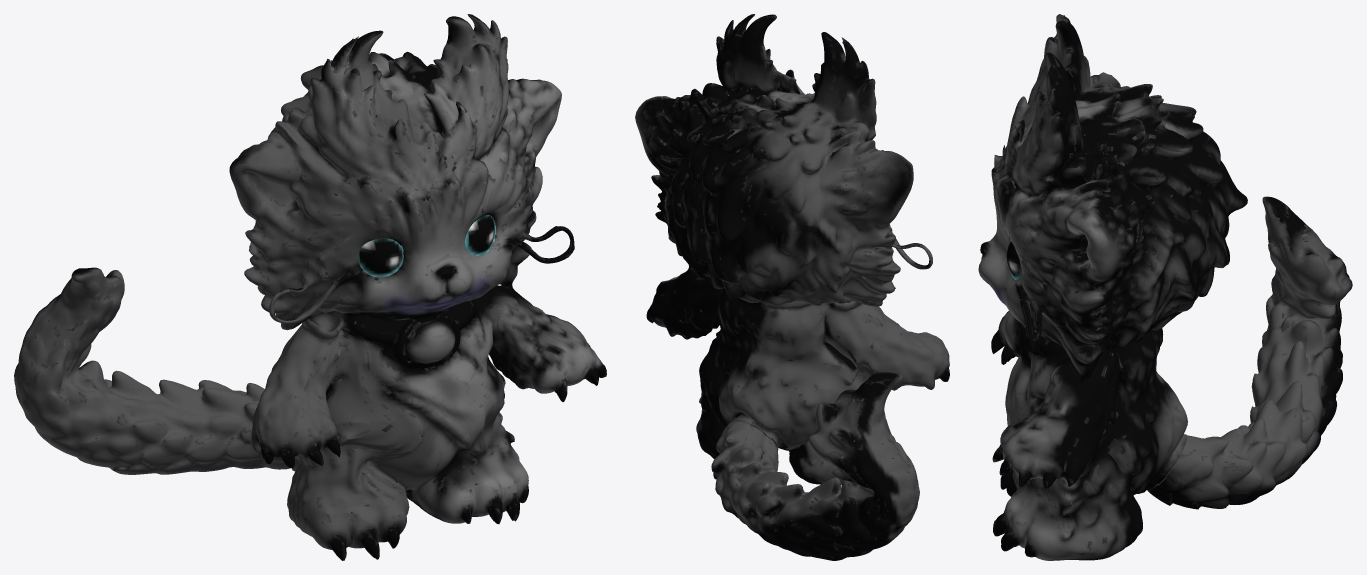
The model's file is Mascot-Black_ForAR_compressed.glb.
The picture shows the model from 3 angles, left to right: view 1: azimuth 30°, elevation 25°; view 2: azimuth 150°, elevation 25°; view 3: azimuth 270°, elevation 25°; orthographic projection. The views are drawn at different scales.
Parts seen in each view (by area): view 1: BLACK; view 2: BLACK; view 3: BLACK.
Part boxes in pixels (left/top/right/bottom): BLACK: left=14, top=14, right=606, bottom=560; BLACK: left=635, top=14, right=949, bottom=560; BLACK: left=978, top=14, right=1352, bottom=560.
Bounding box in the file's own units: 1.33 × 1.46 × 1.02.
Materials: 1 (1 with a texture image).
